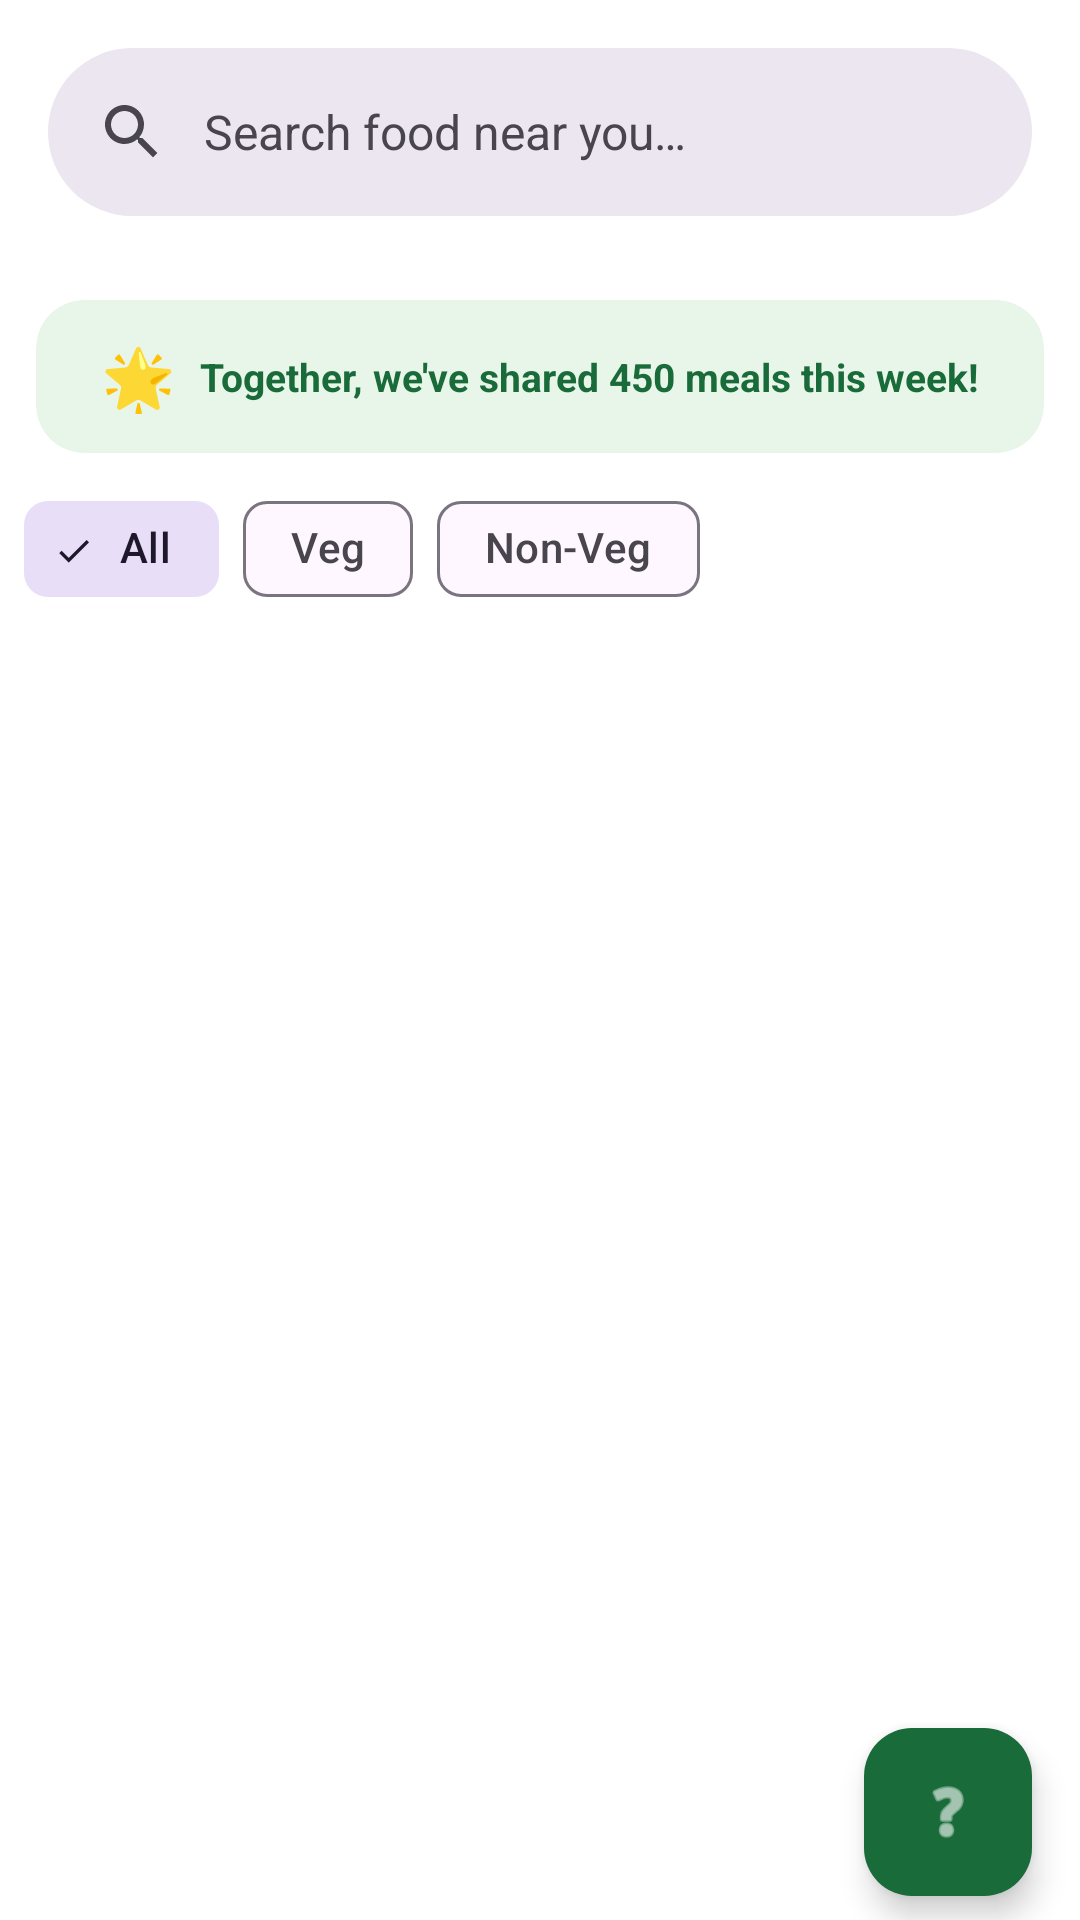

Named icons in this screenshot (1080px×1920px) and their centers, point (x, y):
help: point (948, 1812)
